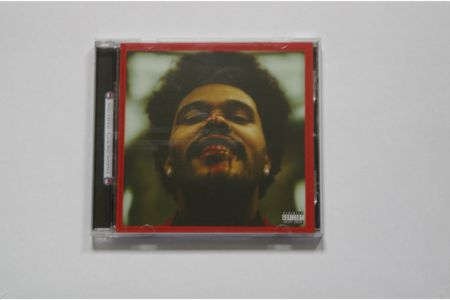album: (90, 40, 322, 238)
